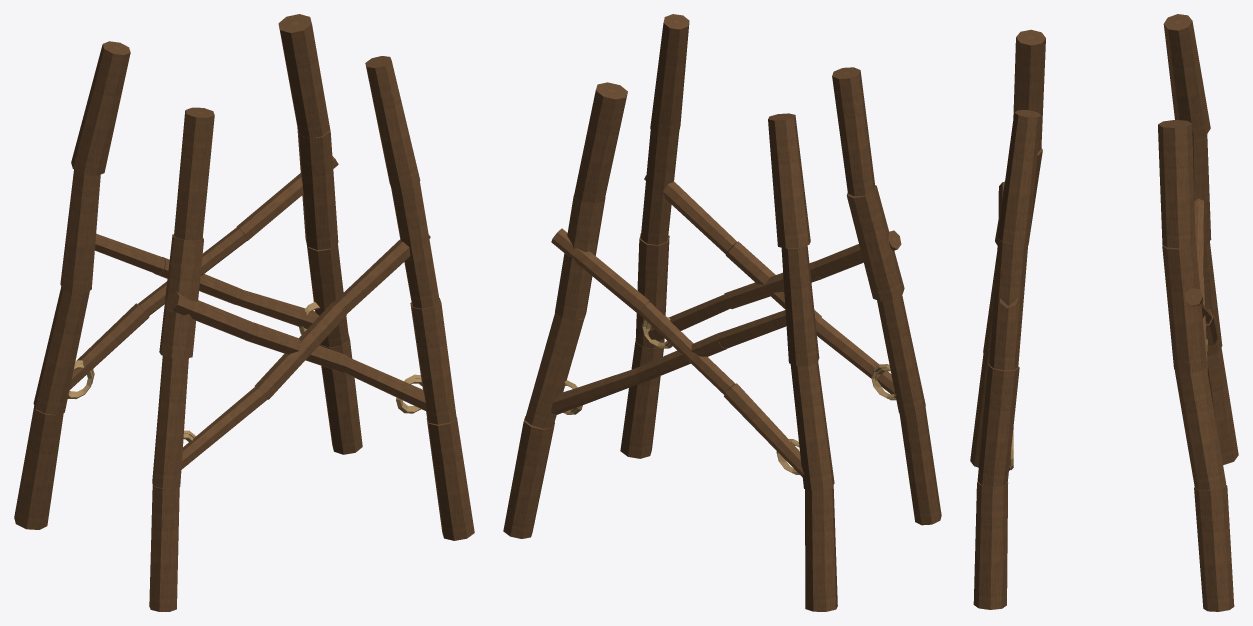
The model's file is cs-012_signal_beacon_partial.obj.
3 renders of one model, left to right at view 1: azimuth 30°, elevation 25°; view 2: azimuth 150°, elevation 25°; view 3: azimuth 270°, elevation 25°, orthographic. The views are drawn at different scales.
Visible parts, largest first — view 1: cs-012_signal_beacon_partial; view 2: cs-012_signal_beacon_partial; view 3: cs-012_signal_beacon_partial.
Boxes of the visible parts, <box> form: cs-012_signal_beacon_partial: <box>14,14,474,611</box>; cs-012_signal_beacon_partial: <box>503,14,941,611</box>; cs-012_signal_beacon_partial: <box>970,14,1238,611</box>.
Size of the model in its own units: 1.24 by 1.66 by 0.8584.
Materials: 2 (2 with a texture image).
